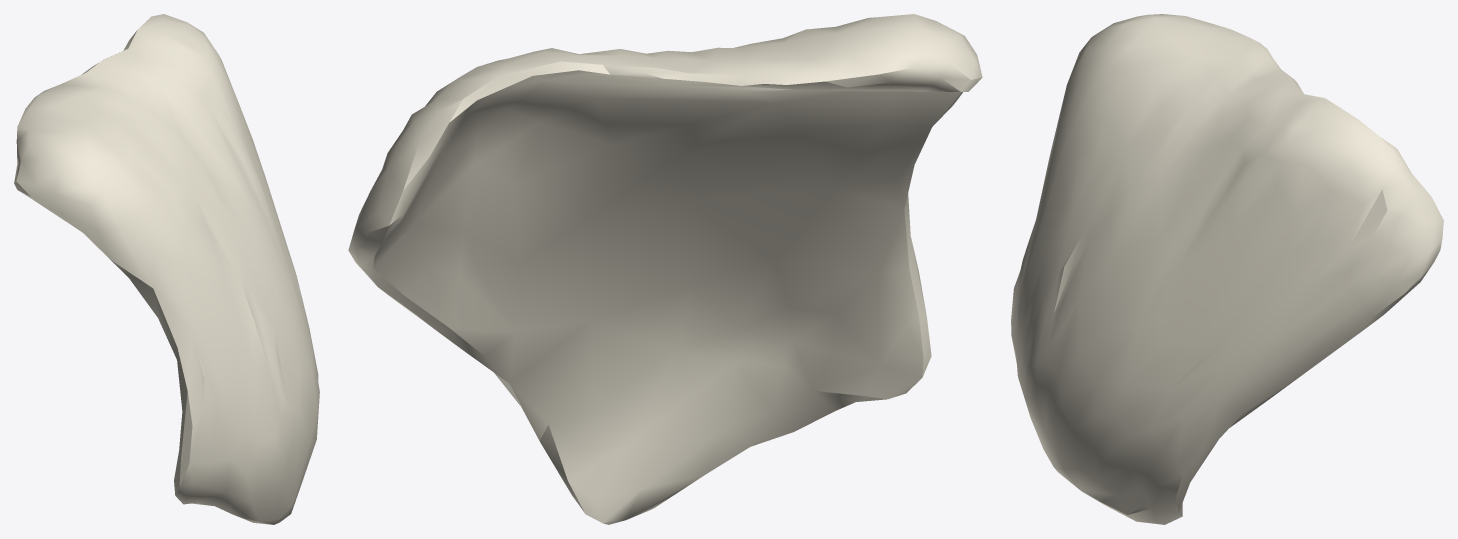
File: fma326794-l_mm1461.glb
The picture shows the model from 3 angles, left to right: view 1: azimuth 30°, elevation 25°; view 2: azimuth 150°, elevation 25°; view 3: azimuth 270°, elevation 25°; orthographic projection. The views are drawn at different scales.
Parts seen in each view (by area): view 1: FMA326794-L_MM1461; view 2: FMA326794-L_MM1461; view 3: FMA326794-L_MM1461.
Boxes of the visible parts, x1,y1,x2,y2 form: FMA326794-L_MM1461: [14, 14, 319, 524]; FMA326794-L_MM1461: [348, 14, 982, 524]; FMA326794-L_MM1461: [1011, 14, 1443, 524].
Bounding box in the file's own units: 0.00845 × 0.0104 × 0.01.
